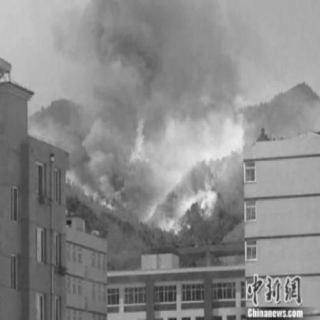Fire: (130, 121, 152, 171)
Smoke: (69, 1, 239, 107)
